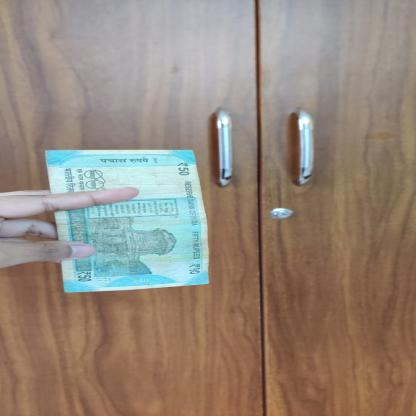New50Back: (44, 148, 212, 294)
